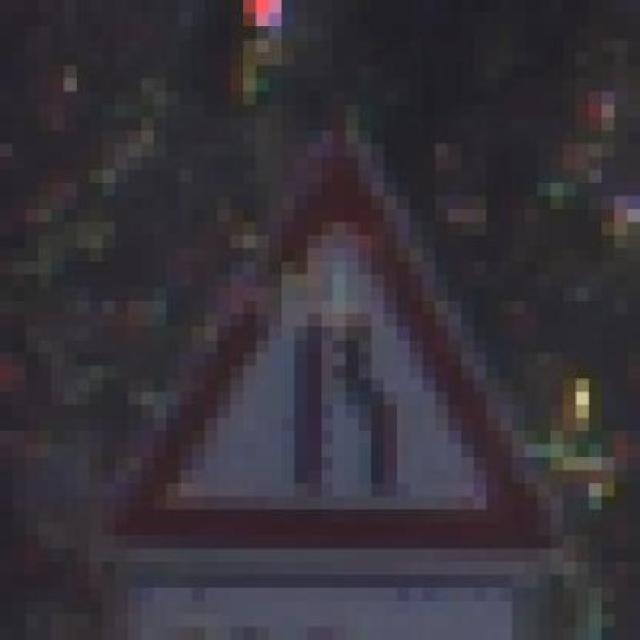-Road narrows on right: (89, 91, 563, 574)
